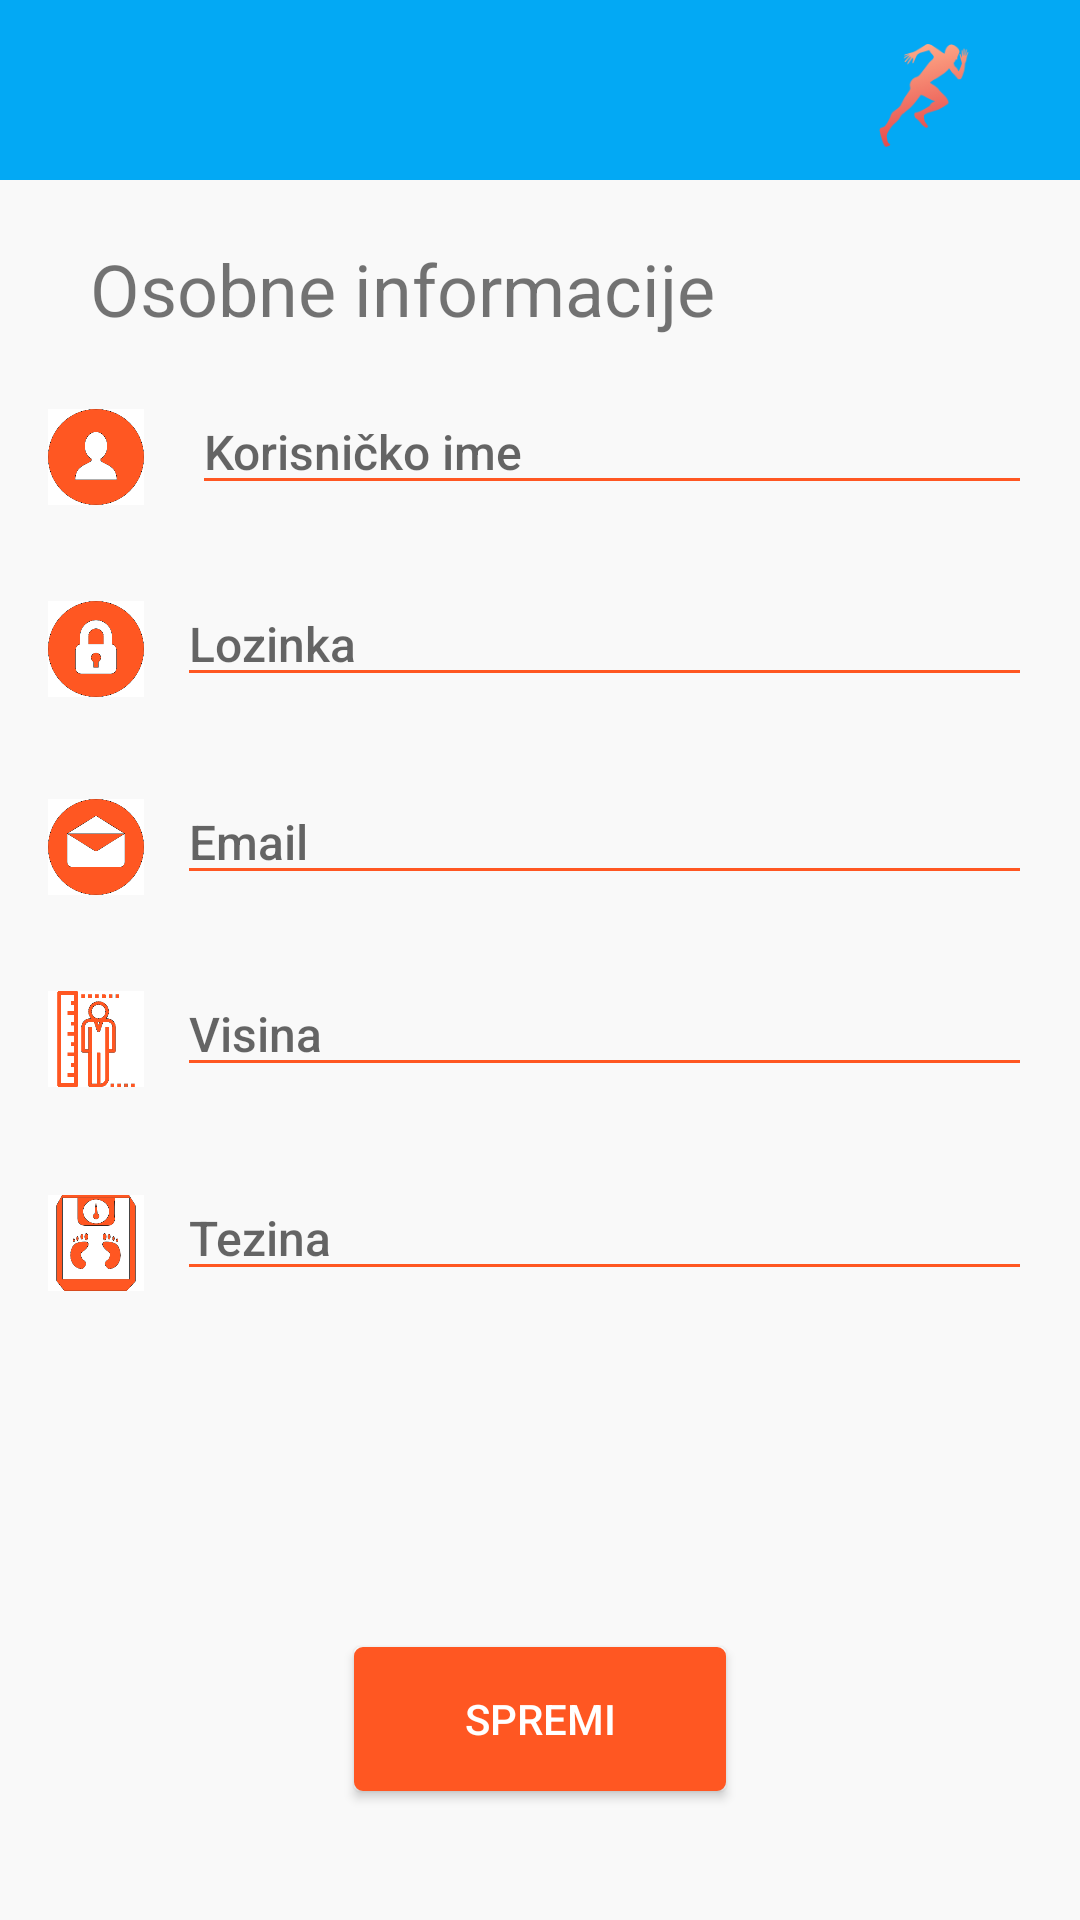

Icon click points for this 1080x1920 phone screenshot, format (x=x, y=y):
password: (x=96, y=649)
user: (x=96, y=457)
